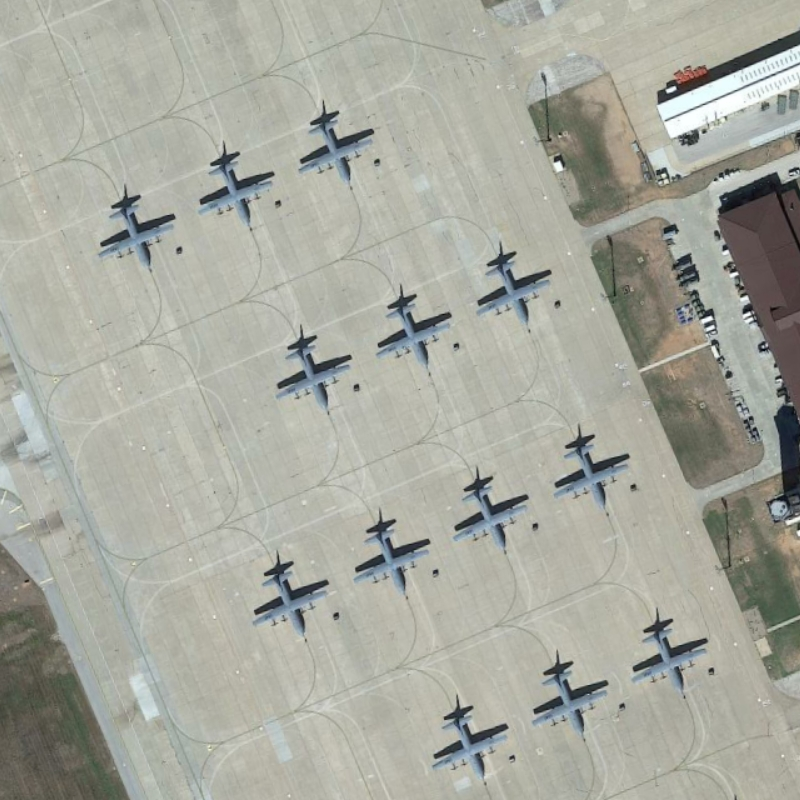A2: (239, 562, 337, 644), (423, 698, 513, 784), (345, 513, 435, 597), (94, 189, 181, 274), (195, 145, 279, 233), (471, 252, 561, 333), (293, 105, 379, 189), (275, 330, 359, 414), (550, 433, 636, 515), (532, 657, 614, 740), (626, 618, 715, 694), (374, 300, 456, 376), (454, 476, 531, 554)
